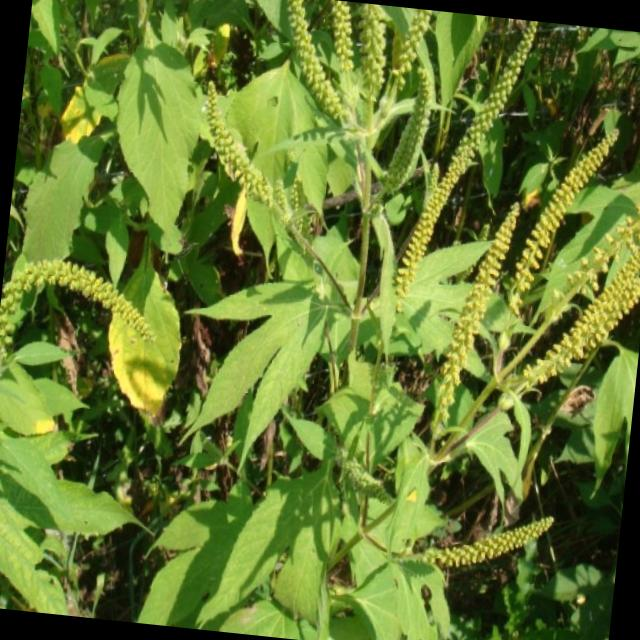ambrosia: (178, 77, 470, 296), (514, 122, 640, 408), (350, 483, 562, 595), (0, 239, 160, 386)
